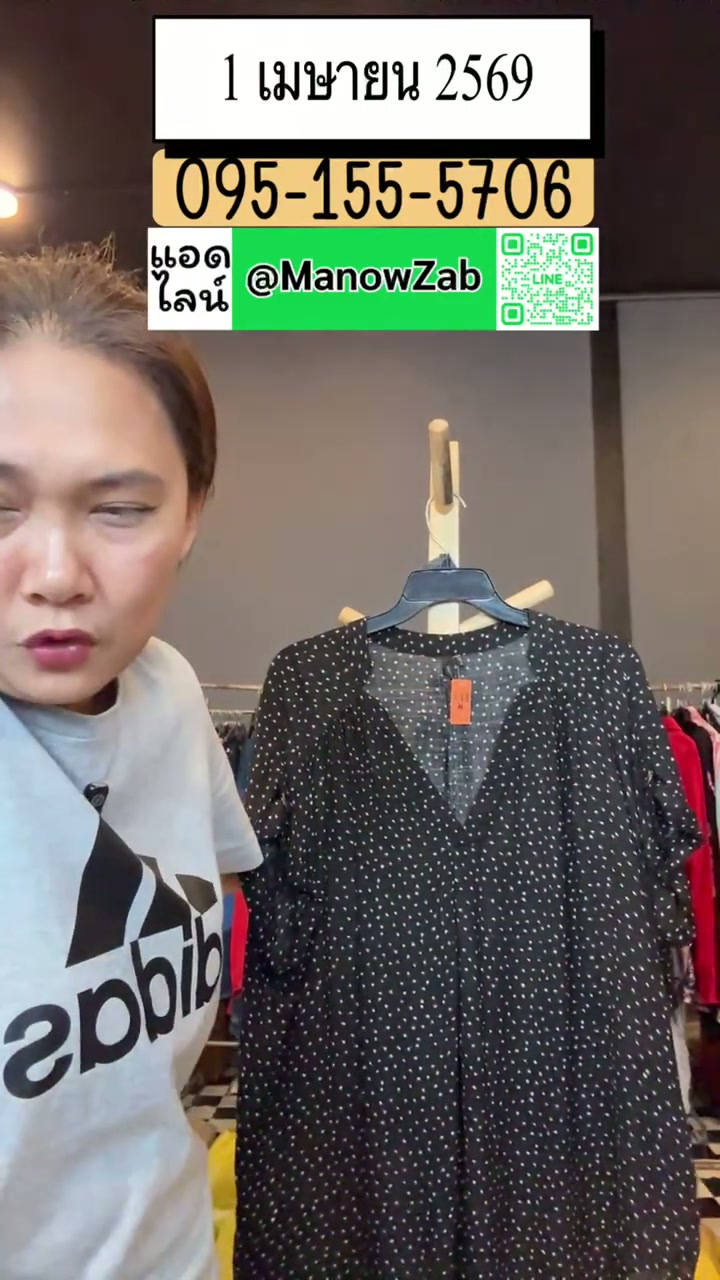display_shirt: (233, 613, 698, 1279)
